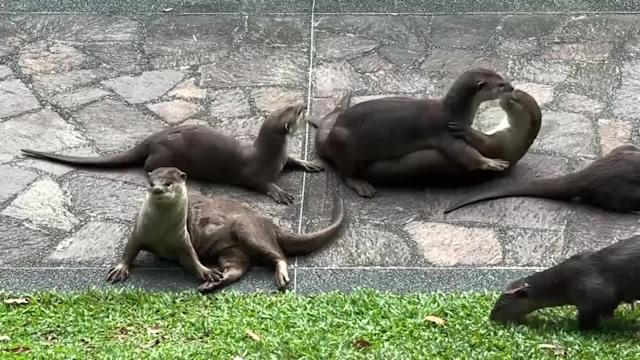otter: (102, 160, 353, 305), (14, 93, 323, 207), (320, 61, 514, 174)
